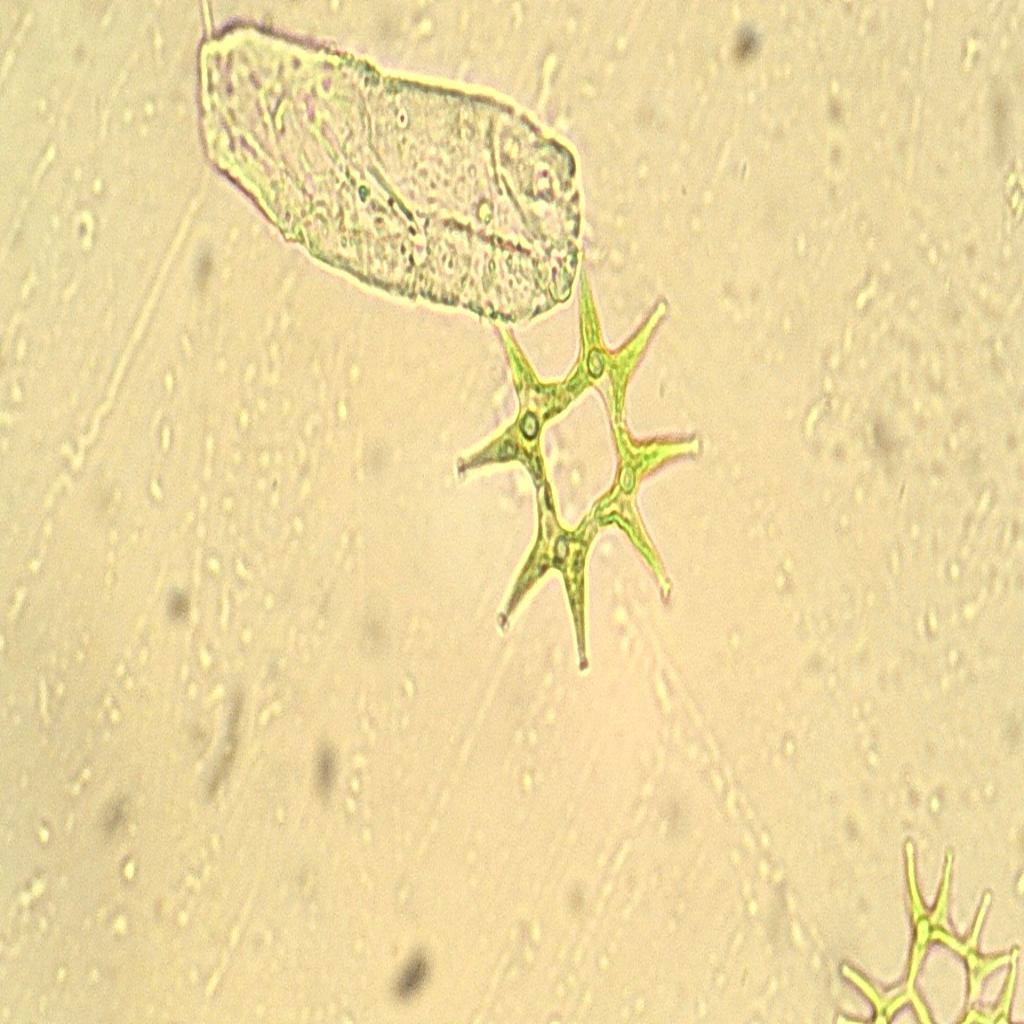Pediastrum_CO: (445, 227, 715, 693)
